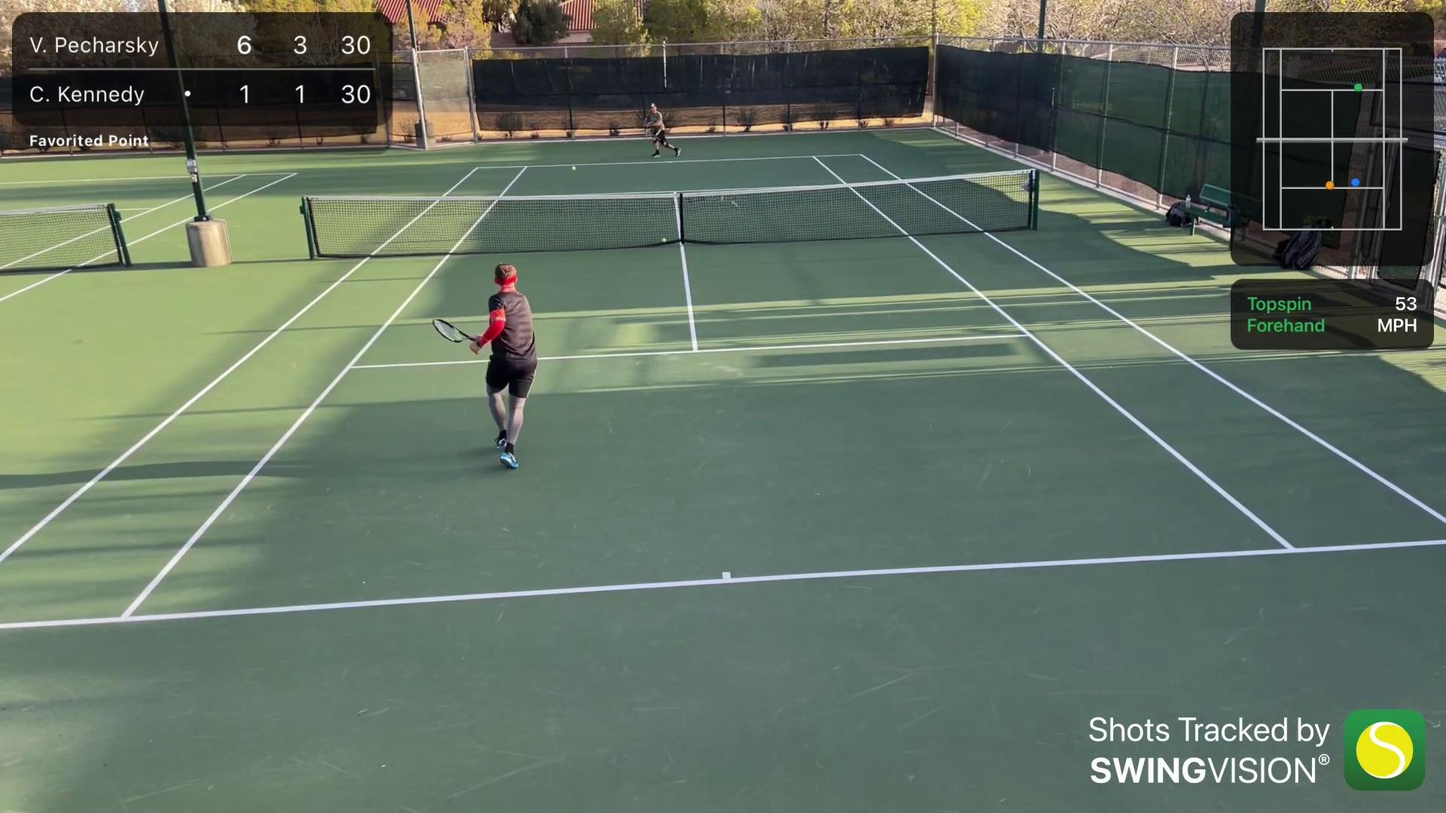ball: (659, 236, 667, 244), (570, 165, 577, 171)
